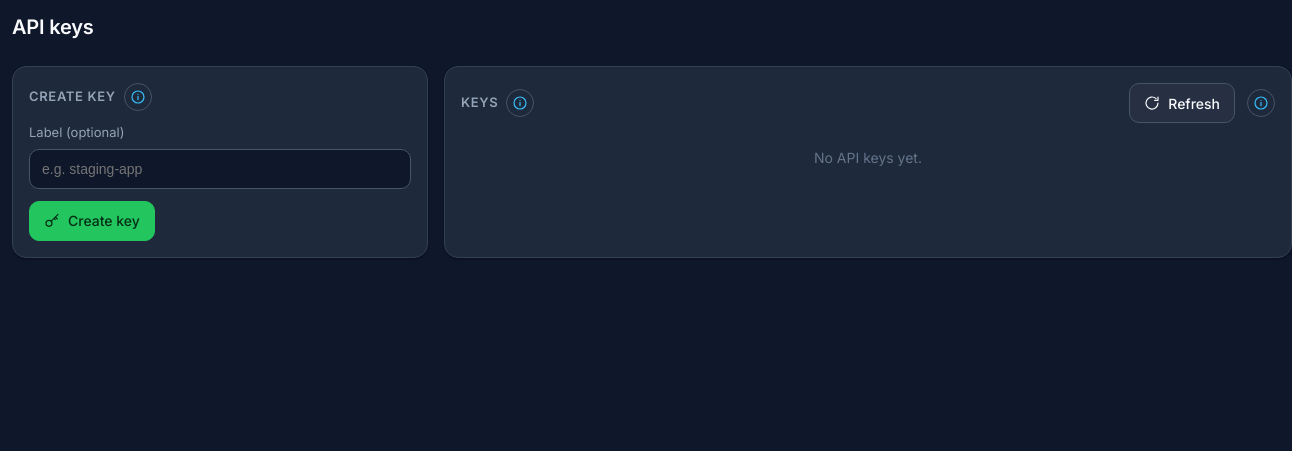
Test: Keys view › shows the new token exactly once after creation
The image size is (1292, 451).
Expected: the text "No API keys yet." is shown, [814, 149, 922, 166]
Type "new" into the field labelled "Label (optional)" at (220, 168), box [29, 148, 411, 188]
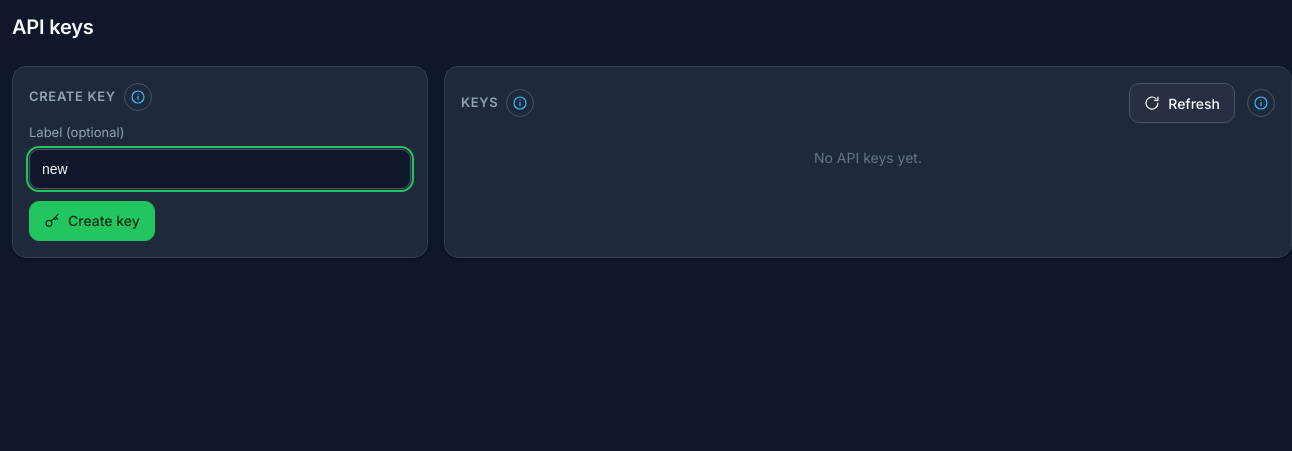
Click the button "Create key" at (92, 220), box [29, 200, 155, 240]
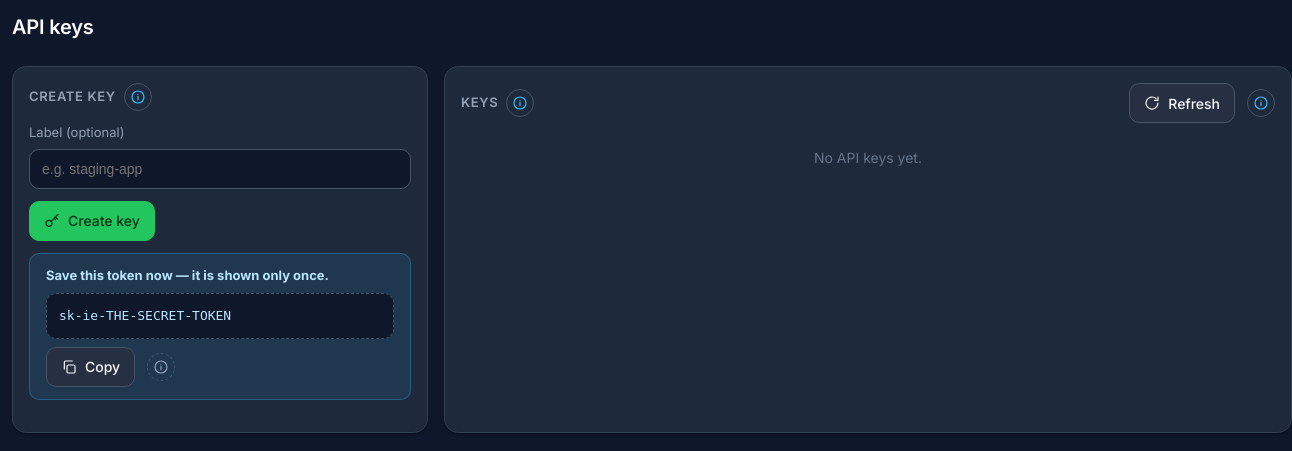
Now the text with test id "new-token" reads "sk-ie-THE-SECRET-TOKEN", box [59, 308, 231, 323]
Now the text "Save this token now — it is shown only once." is shown, box [46, 266, 329, 282]
